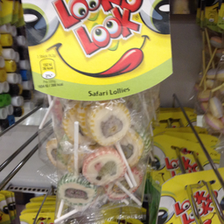candy: (21, 1, 175, 224)
